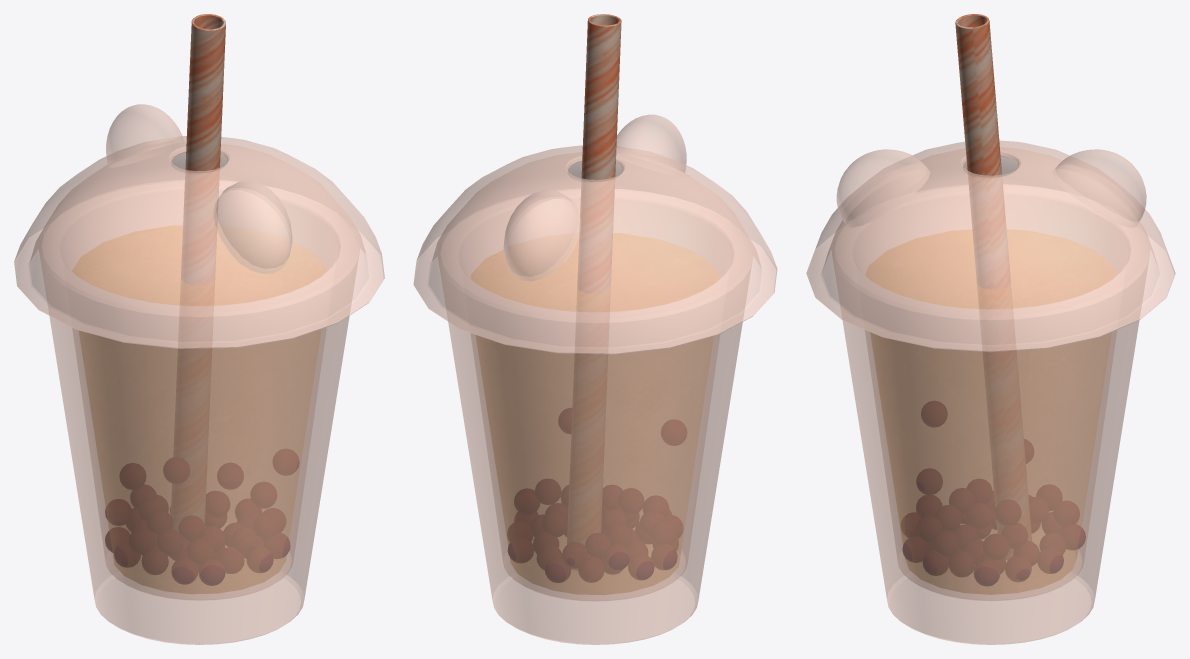
The picture shows the model from 3 angles, left to right: view 1: azimuth 30°, elevation 25°; view 2: azimuth 150°, elevation 25°; view 3: azimuth 270°, elevation 25°; orthographic projection.
Parts seen in each view (by area): view 1: gobelet, couvercle, liquide, paille, polySurface19, polySurface21, polySurface24, polySurface17, polySurface25, polySurface16, polySurface18, polySurface37 (+7 smaller); view 2: gobelet, couvercle, liquide, paille, polySurface2, polySurface22, polySurface4, polySurface17, polySurface33, polySurface25, polySurface23, polySurface21; view 3: gobelet, couvercle, liquide, paille, polySurface2, polySurface1, polySurface17, polySurface16, polySurface25, polySurface3, polySurface24, polySurface28 (+1 smaller).
Boxes of the visible parts, x1,y1,x2,y2 form: gobelet: (39,180,359,644); couvercle: (14,104,384,348); liquide: (72,225,326,593); paille: (171,14,225,531); polySurface19: (199,559,224,585); polySurface21: (120,463,145,489); polySurface24: (273,449,299,474); polySurface17: (217,463,243,488); polySurface25: (163,457,189,483); polySurface16: (251,482,276,507); polySurface18: (172,558,197,584); polySurface37: (247,547,273,572); gobelet: (438,189,752,644); couvercle: (413,114,777,354); liquide: (471,233,719,594); paille: (567,14,621,569); polySurface2: (508,537,533,562); polySurface22: (604,544,629,569); polySurface4: (628,554,654,579); polySurface17: (535,479,560,504); polySurface33: (651,544,677,569); polySurface25: (661,420,686,445); polySurface23: (562,542,587,567); polySurface21: (618,488,643,513); gobelet: (832,184,1149,644); couvercle: (806,140,1175,352); liquide: (866,229,1115,594); paille: (955,14,1031,559); polySurface2: (1037,548,1063,573); polySurface1: (974,560,999,585); polySurface17: (995,500,1020,525); polySurface16: (983,534,1008,559); polySurface25: (921,401,947,426); polySurface3: (1005,556,1031,581); polySurface24: (916,469,942,494); polySurface28: (966,503,992,528).
Bounding box in the file's own units: 49.92 × 86.84 × 49.92.
4 materials, 4 textured.
